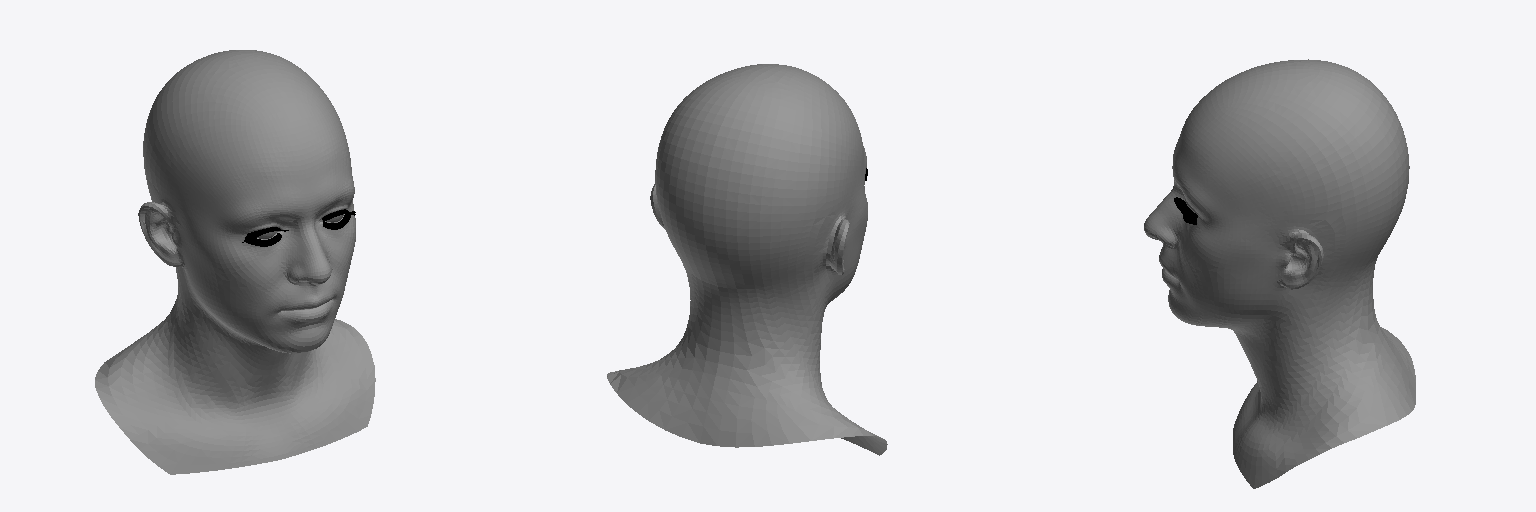
File: identity040.obj
3 renders of one model, left to right at view 1: azimuth 30°, elevation 25°; view 2: azimuth 150°, elevation 25°; view 3: azimuth 270°, elevation 25°, orthographic.
Size of the model in its own units: 24.88 by 33.83 by 22.35.